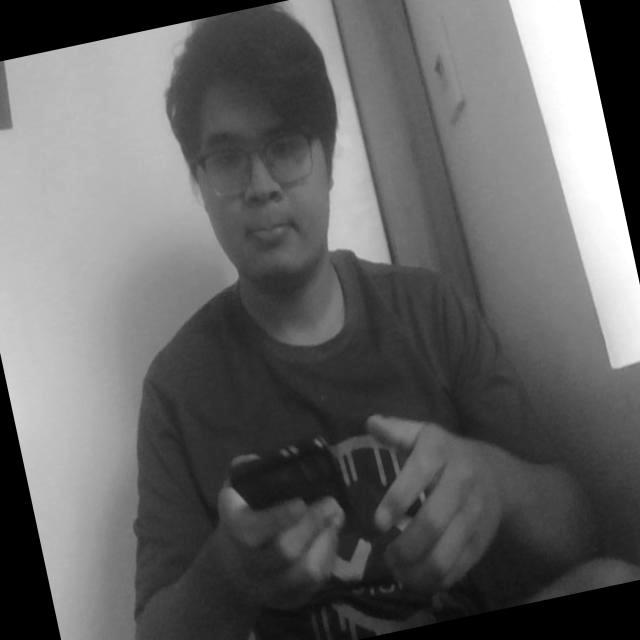phone: (222, 420, 358, 560)
